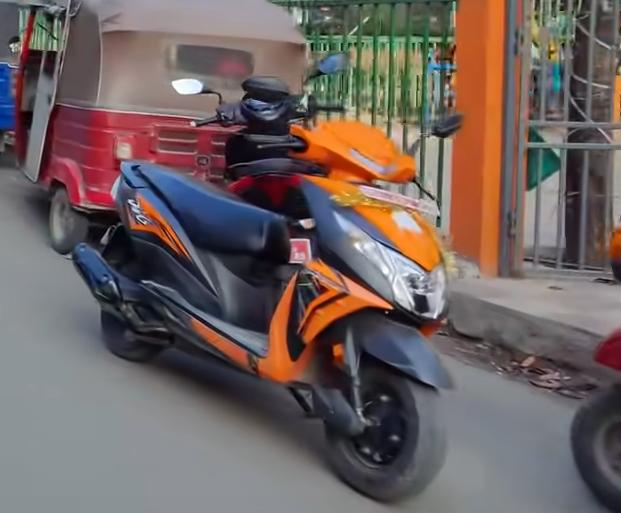scooter: (69, 110, 475, 502)
